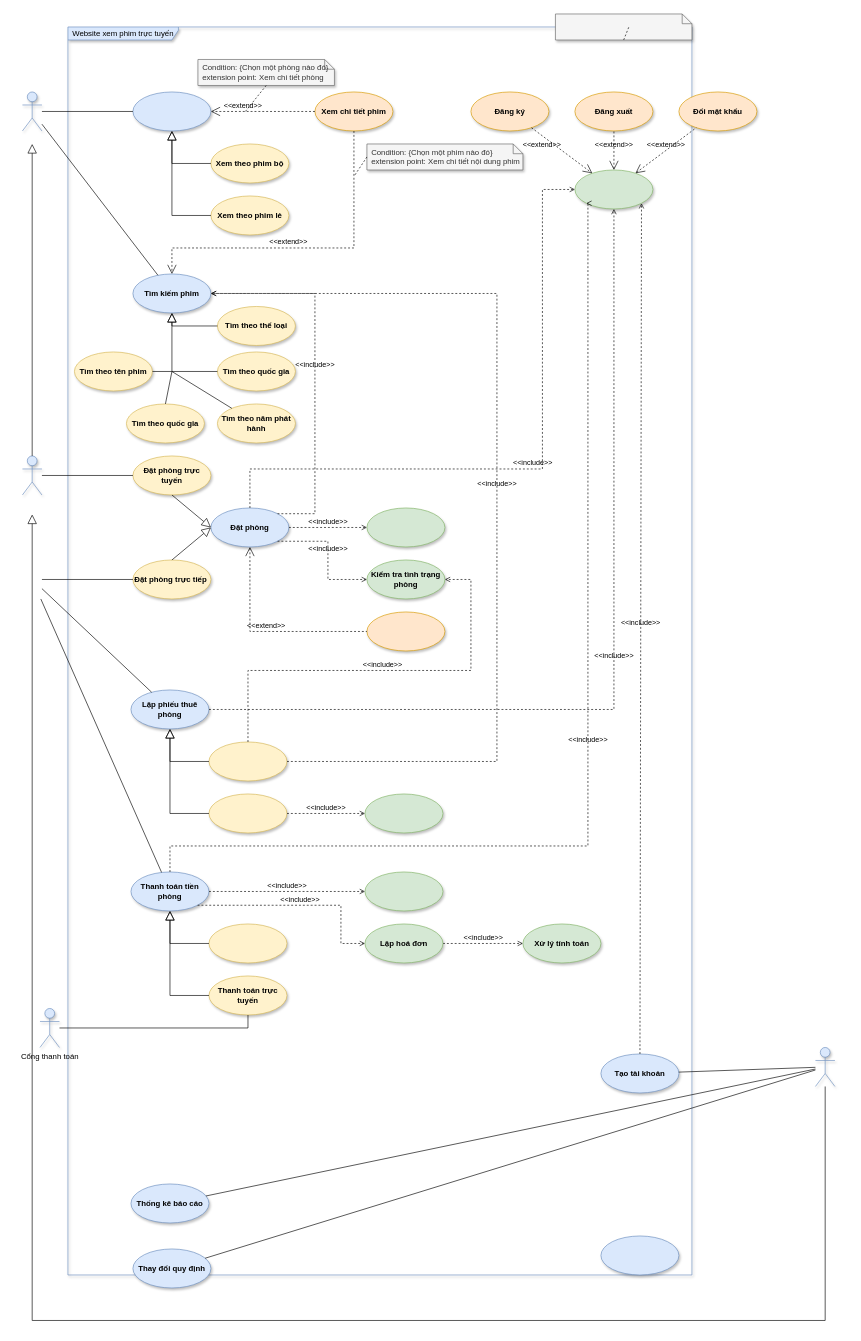
Some shapes in this 861 by 1341 pixel diagram are drawn without their labels. The shapes that lost their labels are listed below. From the top down, each one's centre as x and y in pixels, then its label:
the point at 624,28: Condition: {Chưa có tài khoản} extension point: Tìm kiếm tài khoản
the point at 32,112: Người dùng
the point at 172,112: Xem danh sách phim
the point at 614,190: Đăng nhập
the point at 32,476: Khách hàng
the point at 406,528: Kiểm tra ngày nhận phòng
the point at 406,632: Xem thông tin đặt phòng
the point at 248,762: Thuê phòng trực tiếp
the point at 248,814: Thuê phòng đặt trước
the point at 404,814: Tìm thông tin đặt phòng
the point at 404,892: Tìm thông tin thuê phòng
the point at 248,944: Thanh toán trực tiếp
the point at 825,1067: Người quản trị
the point at 640,1256: Quản lý danh sách
